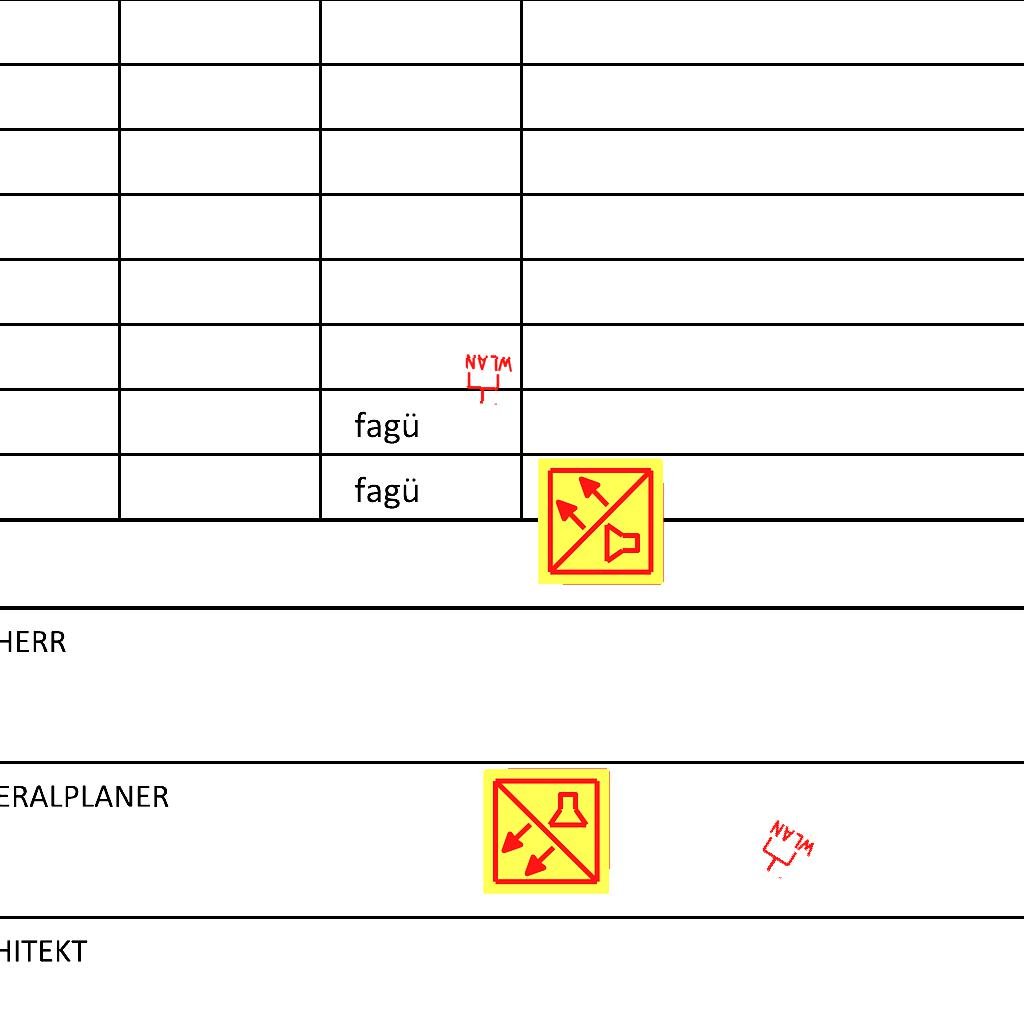OKW_Multisensormelder_(Kombination_optischer_Rauch-Kahlenmonoxid_Waerme-Melder): (535, 455, 667, 587), (480, 765, 612, 897)
WLAN: (748, 817, 820, 889), (460, 352, 516, 408)
